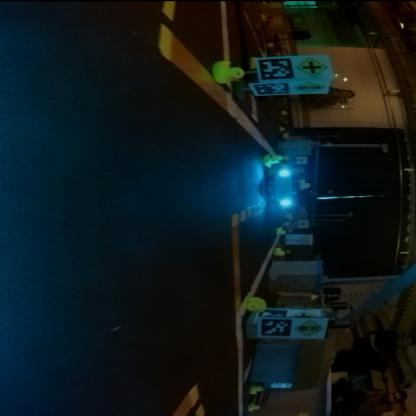Duckie: (214, 60, 245, 84), (247, 297, 267, 312), (266, 154, 278, 166), (301, 180, 311, 190), (250, 386, 264, 393), (278, 250, 286, 256), (279, 228, 286, 234)
Duckiebot: (269, 169, 300, 207)
Intersection sign: (298, 58, 330, 78)
QR code: (259, 58, 295, 80), (261, 318, 293, 336), (251, 82, 292, 94)
Signal sign: (296, 320, 326, 336), (295, 82, 326, 94)
